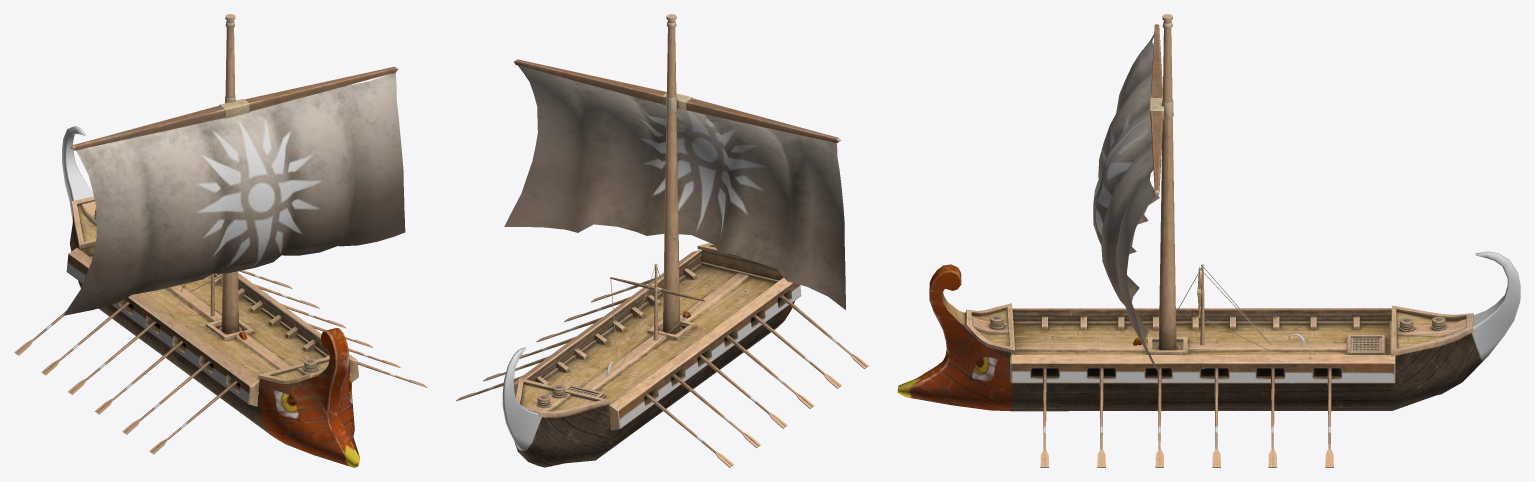
File: 210-trireme.glb
The picture shows the model from 3 angles, left to right: view 1: azimuth 30°, elevation 25°; view 2: azimuth 150°, elevation 25°; view 3: azimuth 270°, elevation 25°; orthographic projection. The views are drawn at different scales.
Size of the model in its own units: 18.96 by 19.56 by 28.32.
Materials: 2 (2 with a texture image).
